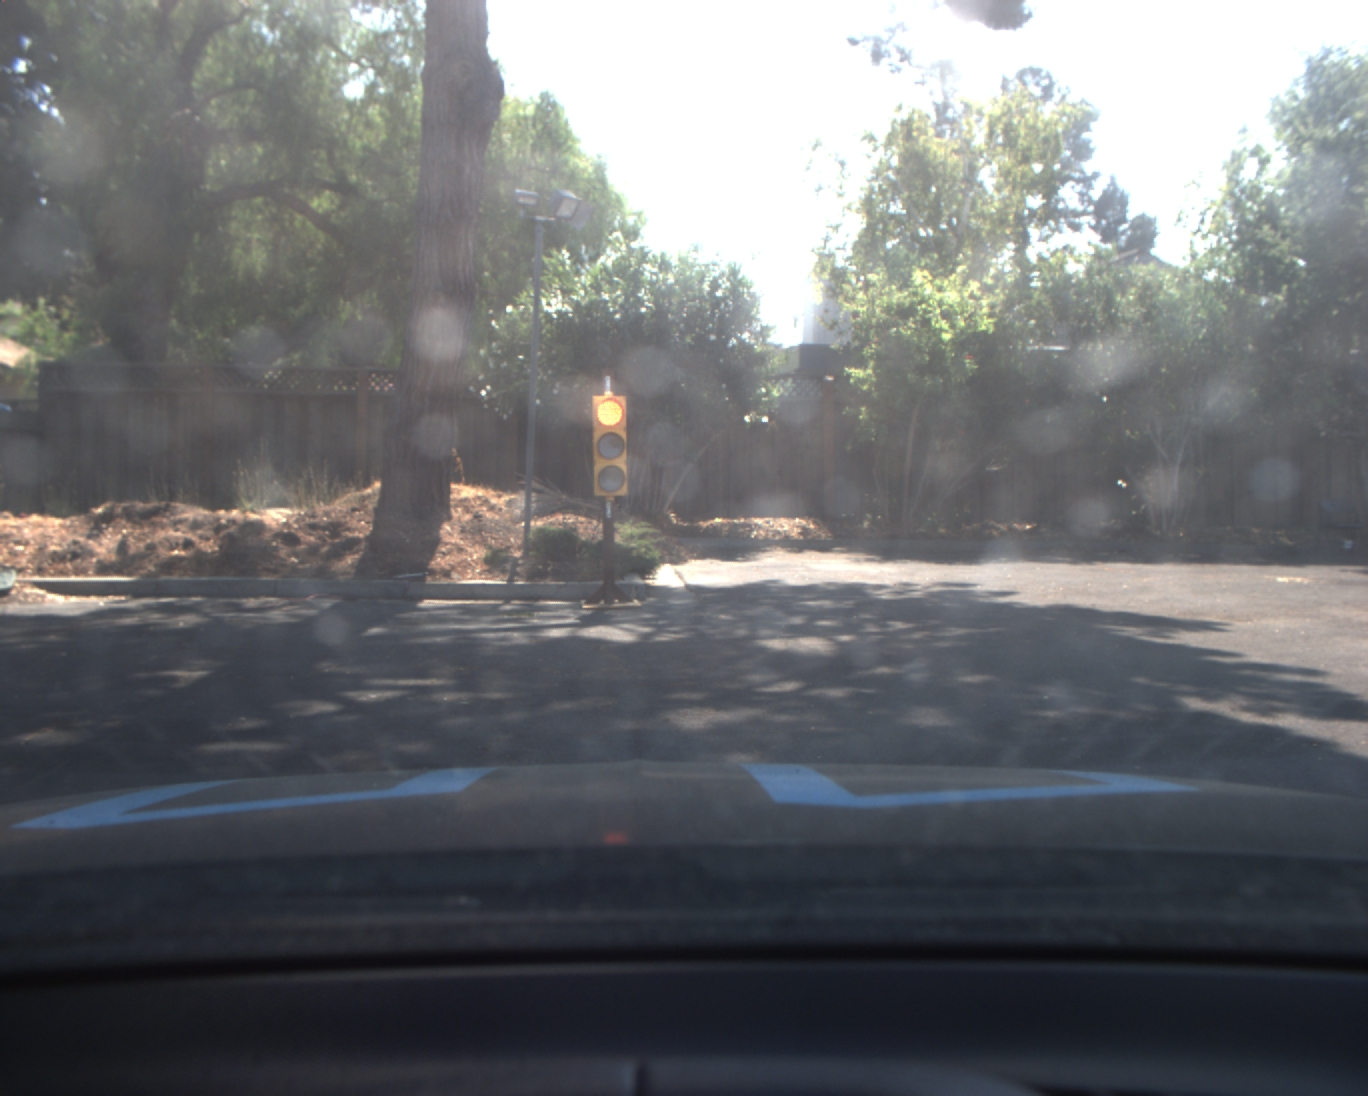red: (589, 390, 632, 499)
